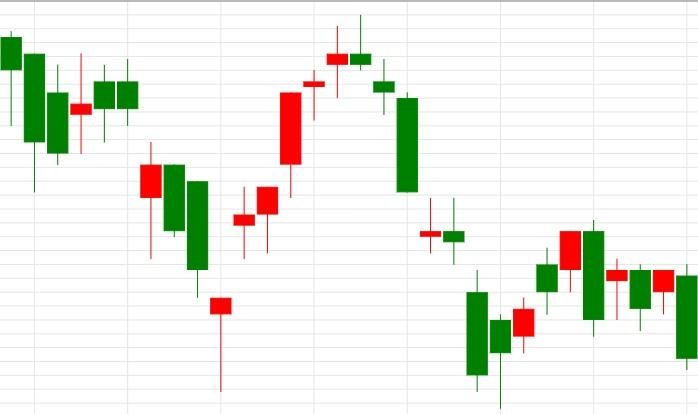bearish_engulfing_fall: (466, 220, 605, 408)
hammer_rise: (116, 58, 233, 393)
